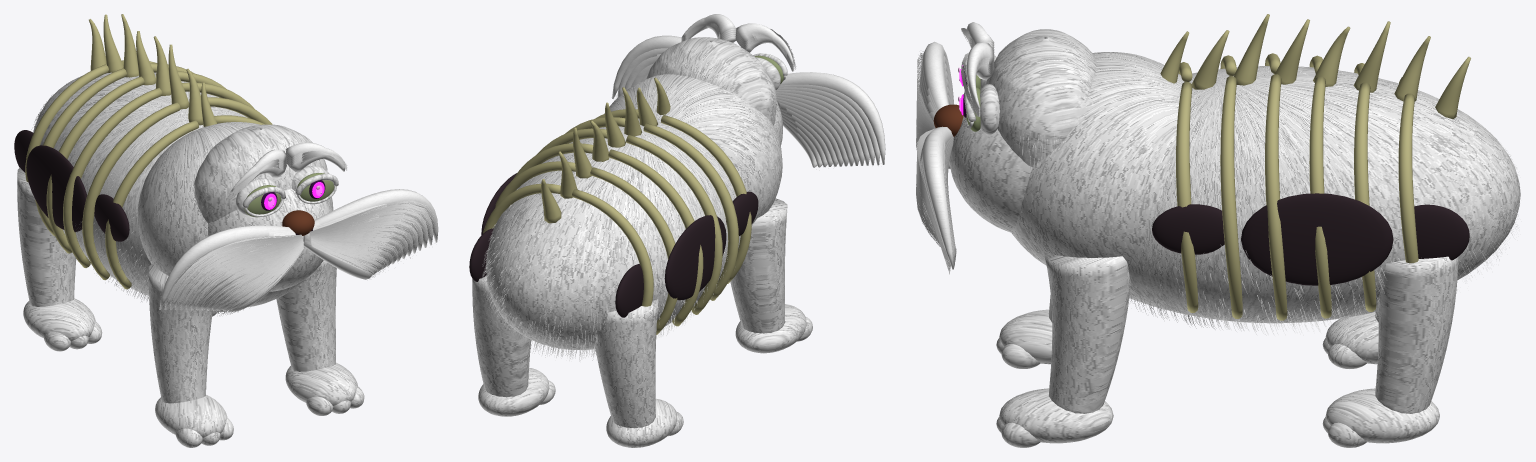
Rendered from lorax.glb.
The picture shows the model from 3 angles, left to right: view 1: azimuth 30°, elevation 25°; view 2: azimuth 150°, elevation 25°; view 3: azimuth 270°, elevation 25°; orthographic projection. The views are drawn at different scales.
Parts seen in each view (by area): view 1: Body / Orange fur, Body / Exposed bone, Head / Moustache gold, Head / Moustache light, Front left leg / Orange fur, Head / Moustache shadow, Front right leg / Orange fur, Rear left leg / Orange fur, Head / Orange fur, Body / Decayed patches, Head / Burnt orange, Head / Eye white (+1 smaller); view 2: Body / Orange fur, Body / Exposed bone, Rear left leg / Orange fur, Head / Moustache gold, Front left leg / Orange fur, Rear right leg / Orange fur, Body / Decayed patches, Head / Orange fur, Head / Moustache shadow, Body / Warm fur, Body / Sunlit fur; view 3: Body / Orange fur, Body / Exposed bone, Front right leg / Orange fur, Body / Decayed patches, Rear right leg / Orange fur, Head / Orange fur, Head / Moustache shadow, Head / Moustache gold, Front left leg / Orange fur, Rear left leg / Orange fur, Head / Moustache light, Head / Burnt orange (+3 smaller).
Boxes of the visible parts, x1,y1,x2,y2 form: Body / Orange fur: [33, 72, 333, 313]; Body / Exposed bone: [25, 14, 272, 289]; Head / Moustache gold: [160, 142, 436, 314]; Head / Moustache light: [162, 151, 435, 315]; Front left leg / Orange fur: [149, 264, 233, 447]; Head / Moustache shadow: [159, 189, 438, 315]; Front right leg / Orange fur: [276, 260, 364, 415]; Rear left leg / Orange fur: [17, 167, 102, 351]; Head / Orange fur: [194, 124, 338, 225]; Body / Decayed patches: [14, 130, 129, 241]; Head / Burnt orange: [193, 129, 329, 215]; Head / Eye white: [244, 173, 334, 217]; Body / Orange fur: [482, 74, 782, 361]; Body / Exposed bone: [483, 77, 751, 334]; Rear left leg / Orange fur: [594, 299, 683, 447]; Head / Moustache gold: [611, 14, 880, 167]; Front left leg / Orange fur: [730, 198, 812, 353]; Rear right leg / Orange fur: [472, 276, 555, 416]; Body / Decayed patches: [469, 173, 758, 317]; Head / Orange fur: [646, 37, 787, 125]; Head / Moustache shadow: [612, 35, 885, 167]; Body / Warm fur: [481, 188, 727, 360]; Body / Sunlit fur: [481, 178, 739, 355]; Body / Orange fur: [949, 52, 1520, 335]; Body / Exposed bone: [1160, 14, 1470, 320]; Front right leg / Orange fur: [996, 253, 1130, 447]; Body / Decayed patches: [1152, 193, 1469, 285]; Rear right leg / Orange fur: [1322, 256, 1458, 447]; Head / Orange fur: [964, 29, 1096, 212]; Head / Moustache shadow: [916, 41, 956, 269]; Head / Moustache gold: [916, 22, 994, 273]; Front left leg / Orange fur: [996, 295, 1052, 368]; Rear left leg / Orange fur: [1322, 311, 1378, 368]; Head / Moustache light: [916, 28, 978, 272]; Head / Burnt orange: [980, 55, 1044, 173].
Size of the model in its own units: 0.9515 by 1 by 1.43.
16 materials, 7 textured.
